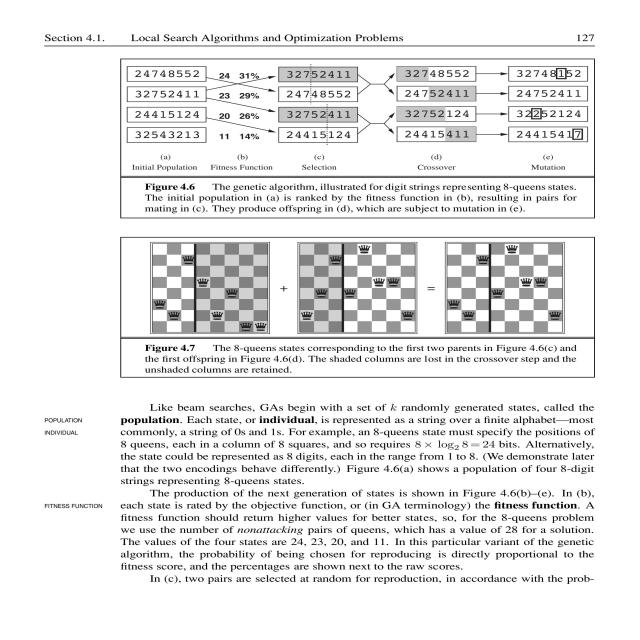diagram: (118, 234, 624, 375)
